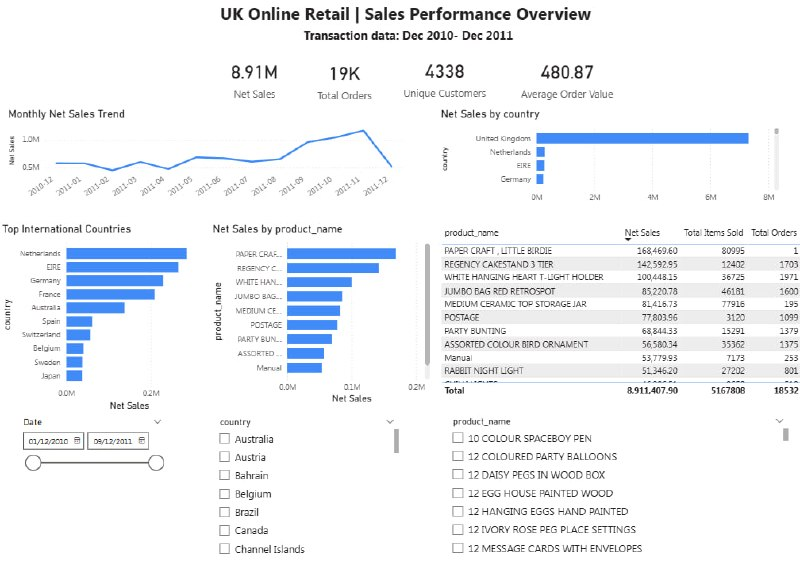

What the dashboard file says about the page in this screenshot:
{"tool":"powerbi","page":{"name":"Sales Overview","canvas":[1280,720],"ordinal":0},"visuals":[{"type":"textbox","box":[0,0,1280.8,44.2],"z":0},{"type":"textbox","box":[0,0,1280.8,44.2],"z":1000},{"type":"textbox","box":[0,44.2,1280.8,50],"z":2000},{"type":"card","title":"Net Sales","fields":{"Values":["_Measures.Net Sales"]},"box":[26.7,106.7,260,115],"z":3000},{"type":"card","title":"Total Orders","fields":{"Values":["_Measures.Total Orders"]},"box":[308.3,106.7,253.3,115],"z":4000},{"type":"card","title":"Unique Customers","fields":{"Values":["_Measures.Unique Customers"]},"box":[588.3,106.7,258.3,115],"z":5000},{"type":"card","title":"Average Order Value","fields":{"Values":["_Measures.Average Order Value"]},"box":[875,106.7,275,116.7],"z":6000},{"type":"lineChart","title":"Monthly Net Sales","fields":{"Category":["DateTable.Year Month"],"Y":["_Measures.Net Sales"]},"box":[0,270,640,206.7],"z":7000},{"type":"clusteredBarChart","title":"Top 5 Products by Revenue","fields":{"Category":["public vw_valid_sales.product_name"],"Y":["_Measures.Net Sales"]},"box":[0,488.3,615,231.7],"z":8000},{"type":"clusteredBarChart","title":"Top 5 International Market (excluding UK)","fields":{"Category":["public vw_valid_sales.country"],"Y":["_Measures.Net Sales"]},"box":[693.3,488.3,541.7,231.7],"z":9000},{"type":"slicer","title":"Date","fields":{"Values":["DateTable.Date"]},"box":[765,236.7,338.3,136.7],"z":10000},{"type":"slicer","title":"Country","fields":{"Values":["public vw_valid_sales.country"]},"box":[760,360,343.3,101.7],"z":11000}]}

Visuals, with their boxes on the page's 1280x720 design canvas (x1, y1, x2, y2). These are canvas units, not pixel positions in the 800x565 screenshot, which may show the page scaled, cropped or inside an application window:
textbox: [x1=0, y1=0, x2=1281, y2=44]
textbox: [x1=0, y1=0, x2=1281, y2=44]
textbox: [x1=0, y1=44, x2=1281, y2=94]
"Net Sales" card: [x1=27, y1=107, x2=287, y2=222]
"Total Orders" card: [x1=308, y1=107, x2=562, y2=222]
"Unique Customers" card: [x1=588, y1=107, x2=847, y2=222]
"Average Order Value" card: [x1=875, y1=107, x2=1150, y2=223]
"Monthly Net Sales" lineChart: [x1=0, y1=270, x2=640, y2=477]
"Top 5 Products by Revenue" clusteredBarChart: [x1=0, y1=488, x2=615, y2=720]
"Top 5 International Market (excluding UK)" clusteredBarChart: [x1=693, y1=488, x2=1235, y2=720]
"Date" slicer: [x1=765, y1=237, x2=1103, y2=373]
"Country" slicer: [x1=760, y1=360, x2=1103, y2=462]
